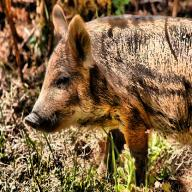boar: (12, 0, 191, 168)
